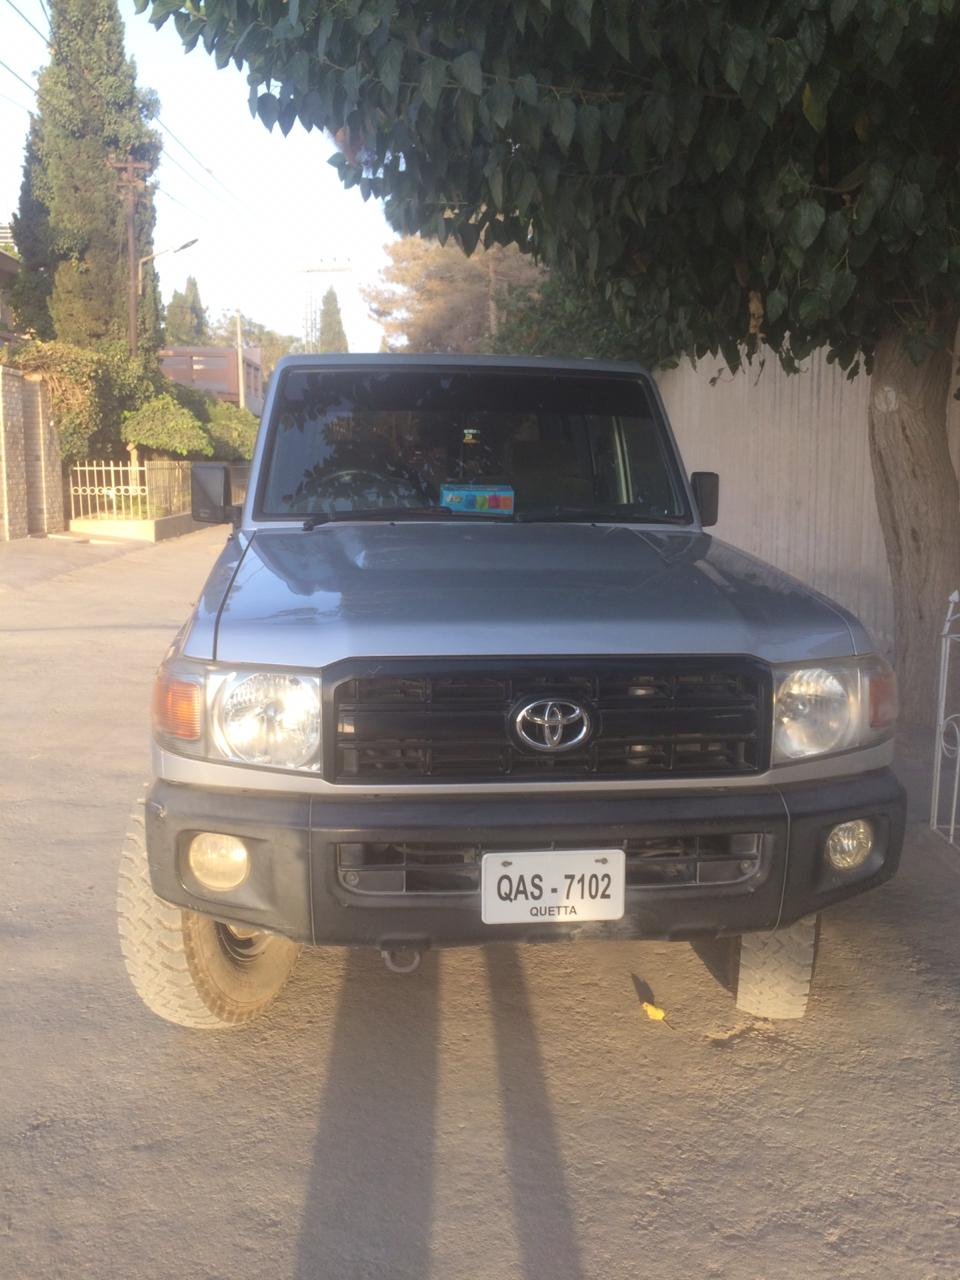license plate: (481, 852, 625, 920)
